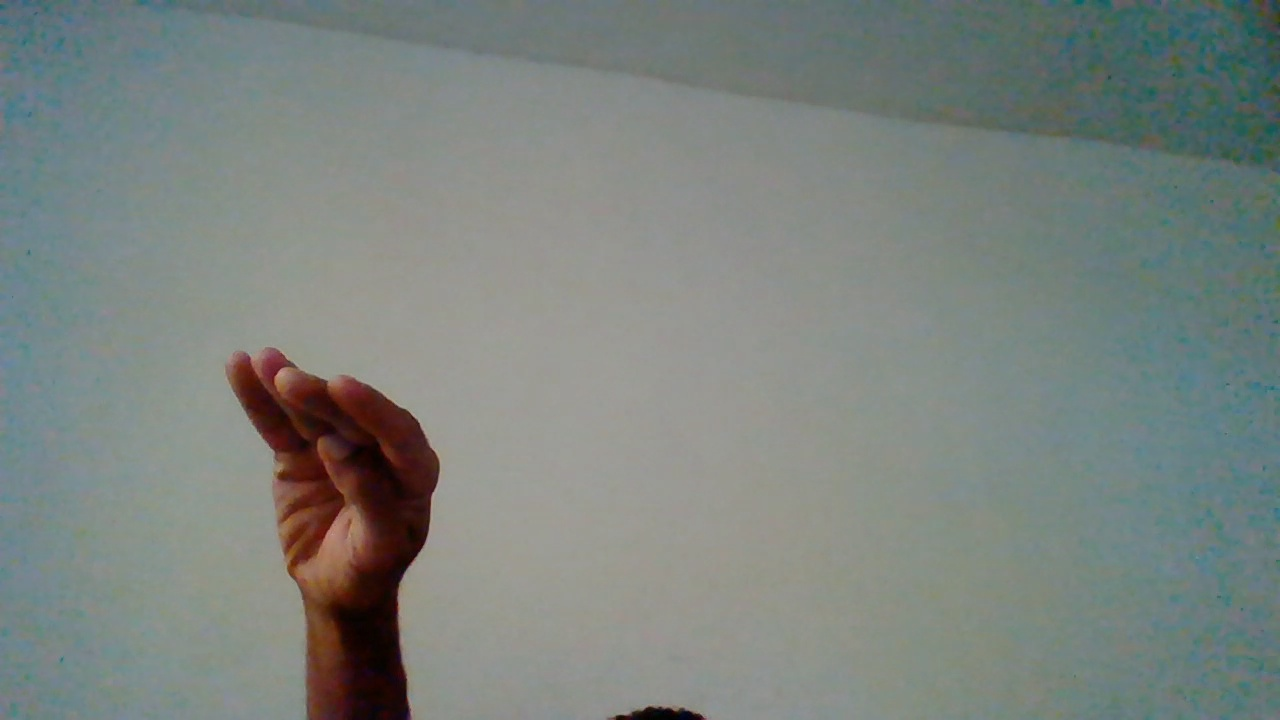me: (222, 346, 444, 716)
